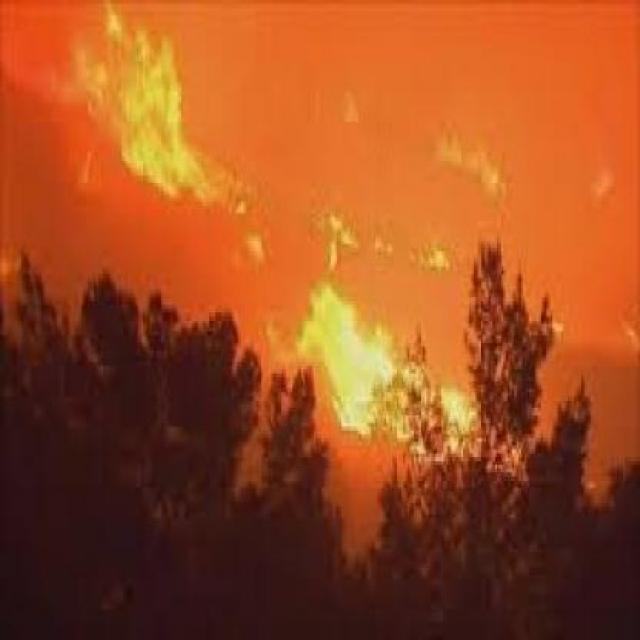Fire: (262, 221, 538, 530), (52, 0, 250, 261)
